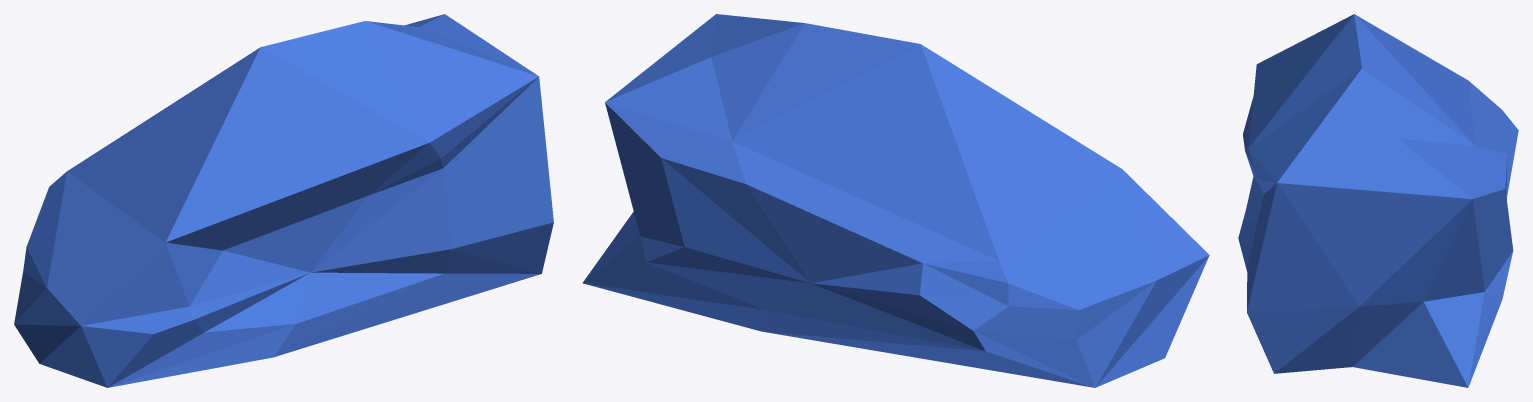
The model's file is SP_Mountain03.fbx.
The picture shows the model from 3 angles, left to right: view 1: azimuth 30°, elevation 25°; view 2: azimuth 150°, elevation 25°; view 3: azimuth 270°, elevation 25°; orthographic projection. The views are drawn at different scales.
Visible parts, largest first — view 1: SP_Mountain03; view 2: SP_Mountain03; view 3: SP_Mountain03.
Part boxes in pixels (bbox=[...]): SP_Mountain03: bbox=[14, 14, 553, 387]; SP_Mountain03: bbox=[582, 14, 1209, 387]; SP_Mountain03: bbox=[1238, 14, 1518, 387].
Size of the model in its own units: 304 by 148 by 153.
1 material, 1 textured.
